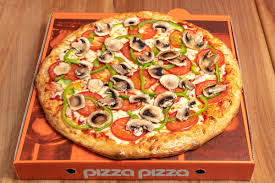pizza: (46, 14, 237, 151)
